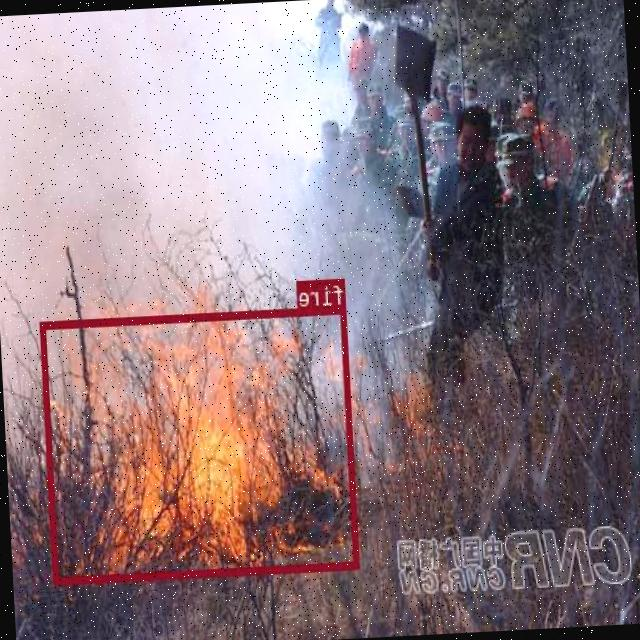fire: (42, 304, 361, 584)
